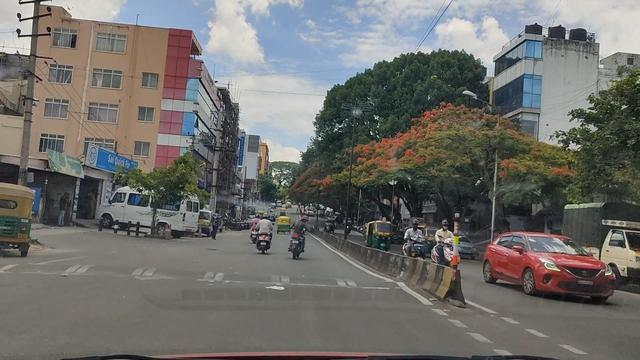SpeedBump: (19, 262, 398, 293)
